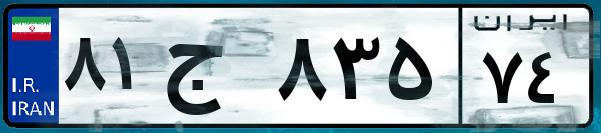1: (110, 28, 158, 98)
3: (330, 28, 385, 110)
4: (525, 38, 570, 115)
5: (385, 28, 445, 110)
7: (475, 38, 525, 113)
8: (270, 28, 330, 110), (57, 26, 110, 100)
ج: (158, 20, 270, 120)
